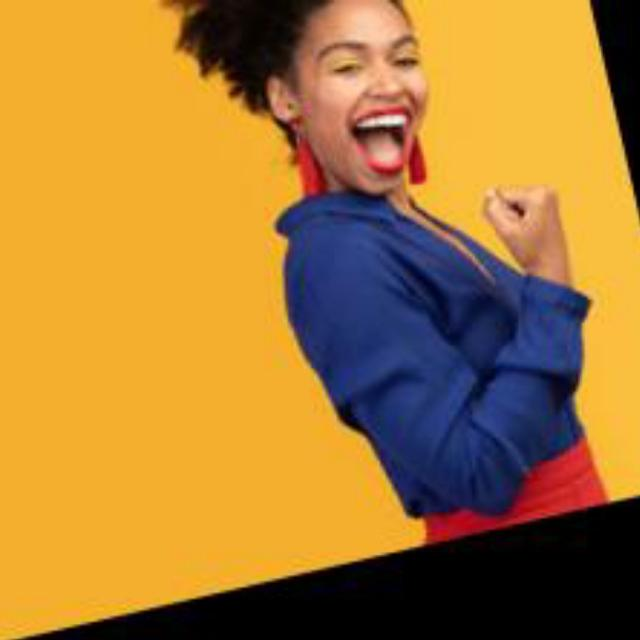Happy: (235, 16, 498, 217)
